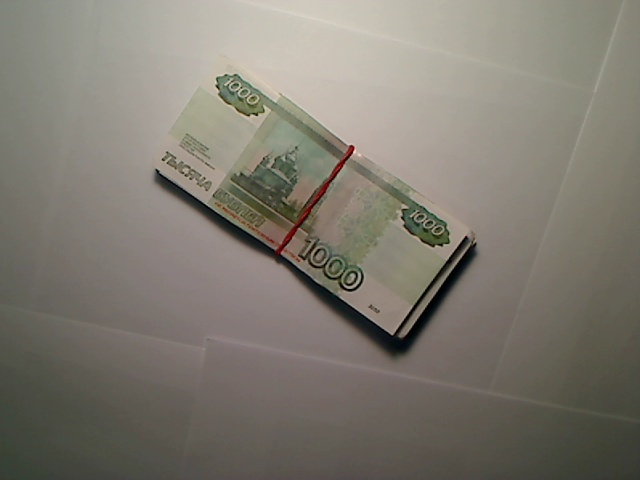banknotes: (150, 56, 479, 343)
